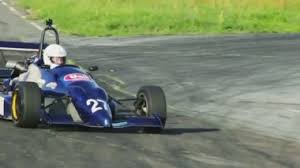FormulaOneCar: (1, 17, 173, 134)
